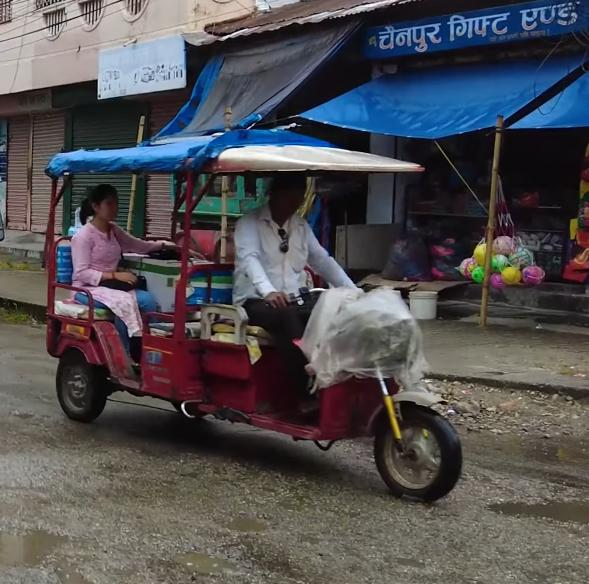e-rickshaw: (57, 141, 471, 515)
